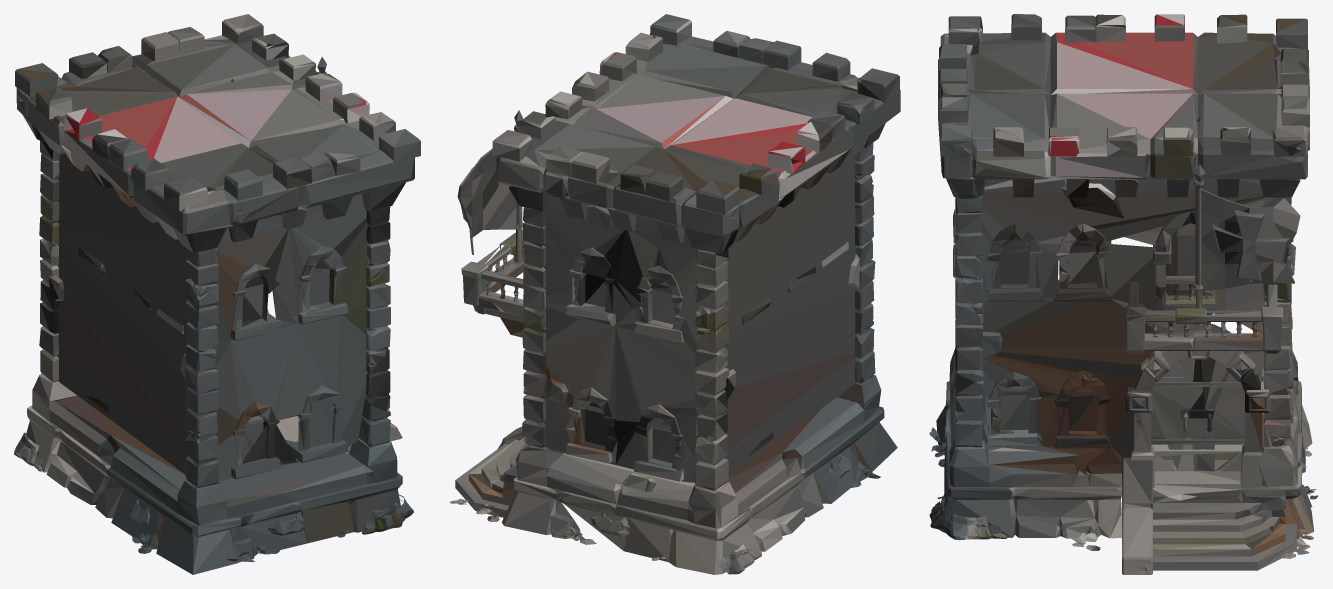
File: Keep.glb
3 views of the same model, side by side, from view 1: azimuth 30°, elevation 25°; view 2: azimuth 150°, elevation 25°; view 3: azimuth 270°, elevation 25° (orthographic). The views are drawn at different scales.
Visible parts, largest first — view 1: world; view 2: world; view 3: world.
Part boxes in pixels (<box>): world: <box>14,14,420,574</box>; world: <box>449,14,900,574</box>; world: <box>929,14,1317,574</box>.
Size of the model in its own units: 0.873 by 0.998 by 0.877.
